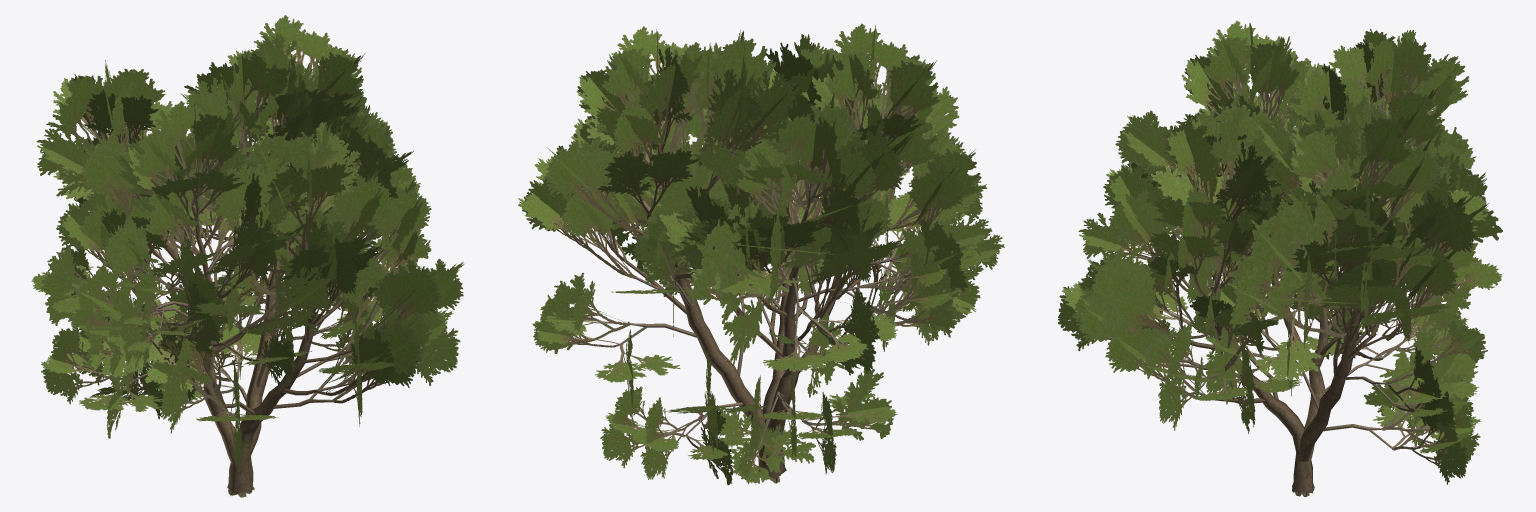
File: SalixAlba.glb
3 views of the same model, side by side, from view 1: azimuth 30°, elevation 25°; view 2: azimuth 150°, elevation 25°; view 3: azimuth 270°, elevation 25° (orthographic). The views are drawn at different scales.
Visible parts, largest first — view 1: White_Willow__Realistic_LOD3; view 2: White_Willow__Realistic_LOD3; view 3: White_Willow__Realistic_LOD3.
Part boxes in pixels (x1=…): White_Willow__Realistic_LOD3: x1=31, y1=15, x2=464, y2=497; White_Willow__Realistic_LOD3: x1=518, y1=23, x2=1004, y2=485; White_Willow__Realistic_LOD3: x1=1058, y1=20, x2=1502, y2=496.
Bounding box in the file's own units: 20.96 × 22.38 × 22.02.
Materials: 1 (1 with a texture image).
